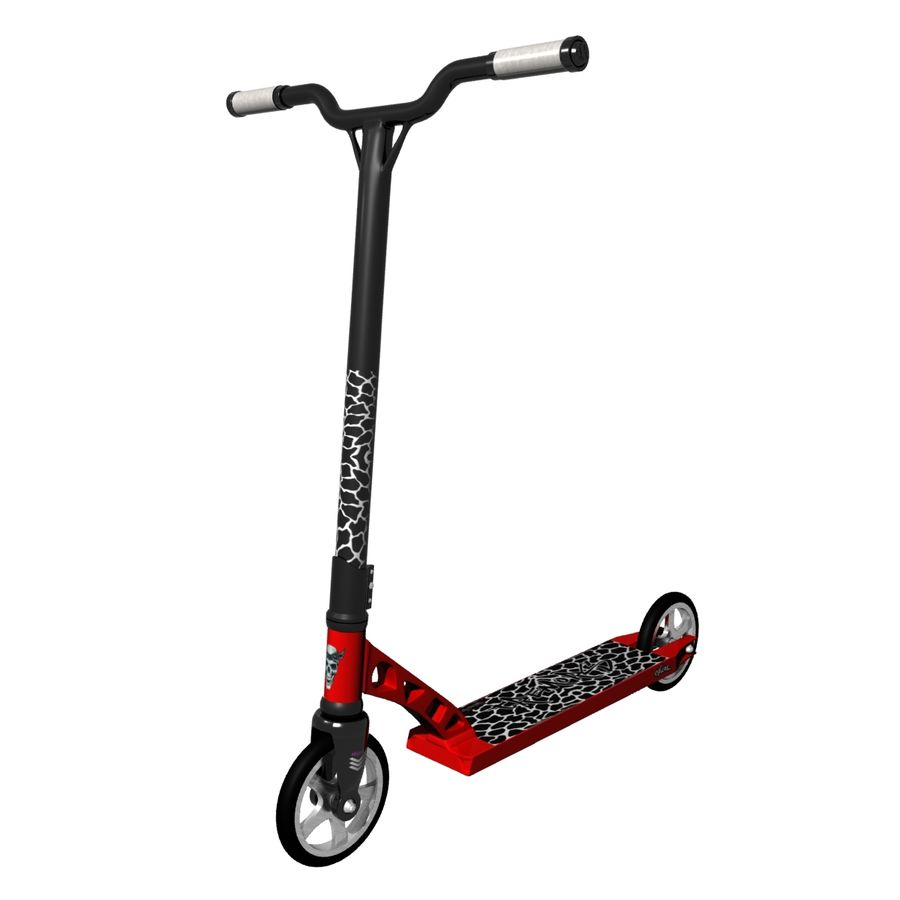scooter: (218, 33, 698, 876)
